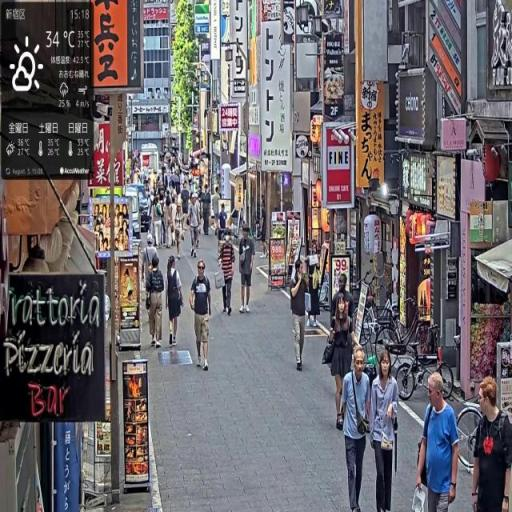person: (414, 370, 463, 512), (470, 374, 512, 512), (340, 343, 372, 512), (370, 347, 402, 512), (324, 289, 357, 431), (189, 255, 215, 372), (291, 257, 310, 374), (146, 252, 166, 350), (218, 230, 238, 320), (167, 255, 185, 349), (238, 227, 257, 316), (189, 194, 203, 260), (202, 185, 212, 238)
